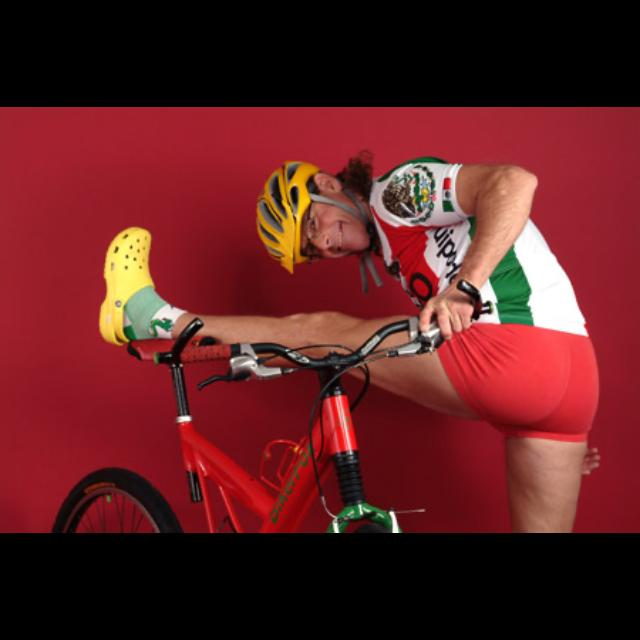With Helmet: (246, 152, 380, 288)
